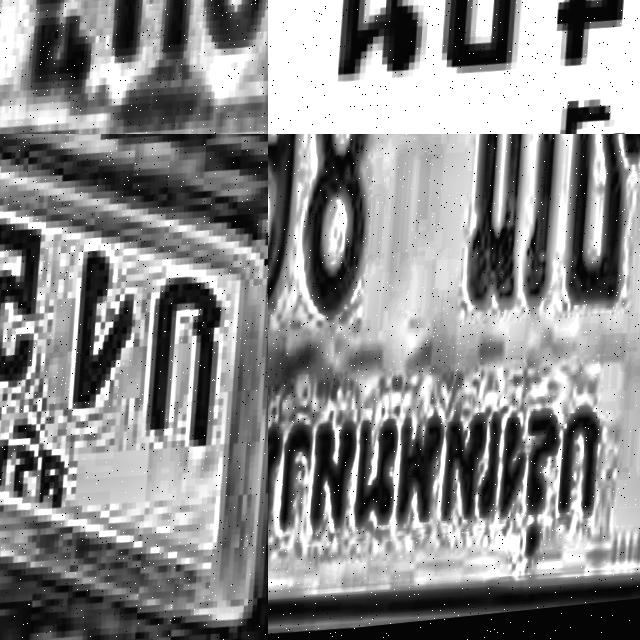license-plate: (268, 134, 640, 640), (0, 134, 268, 640), (268, 0, 640, 134), (0, 0, 268, 134)
